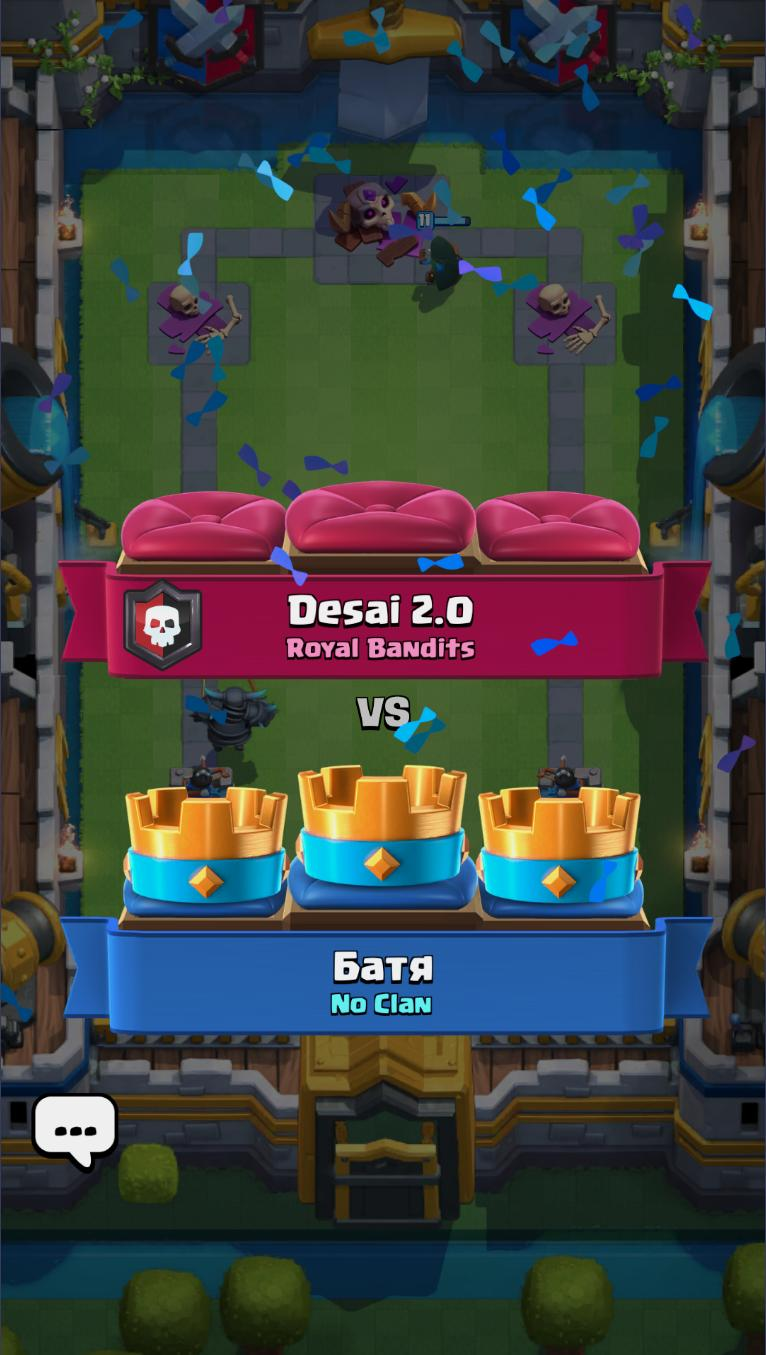EnemyTowerBrocken: (141, 273, 257, 368), (508, 271, 623, 366)
KingTowerBrocken: (310, 162, 451, 288)
MyBandit: (414, 213, 473, 294)
MyPekka: (186, 676, 277, 754)
Win_3-0: (60, 475, 712, 1035)
